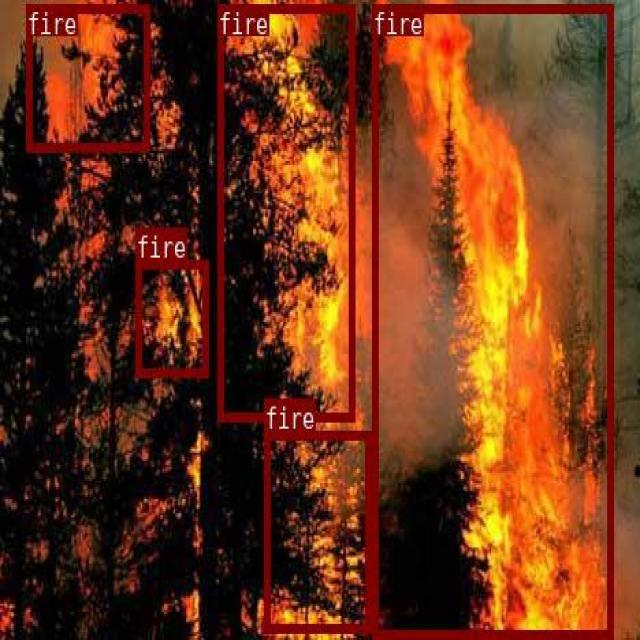fire: (372, 2, 612, 636), (217, 4, 354, 419), (263, 430, 370, 632), (25, 4, 148, 149), (134, 258, 207, 376)
